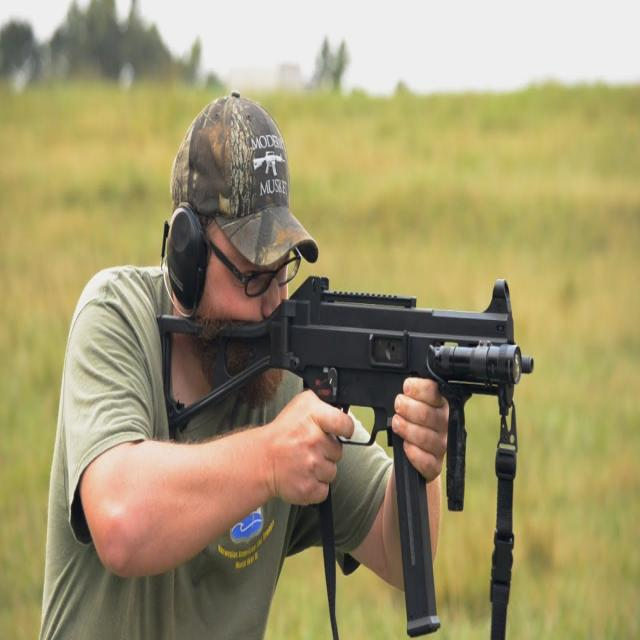SMG: (155, 276, 533, 637)
